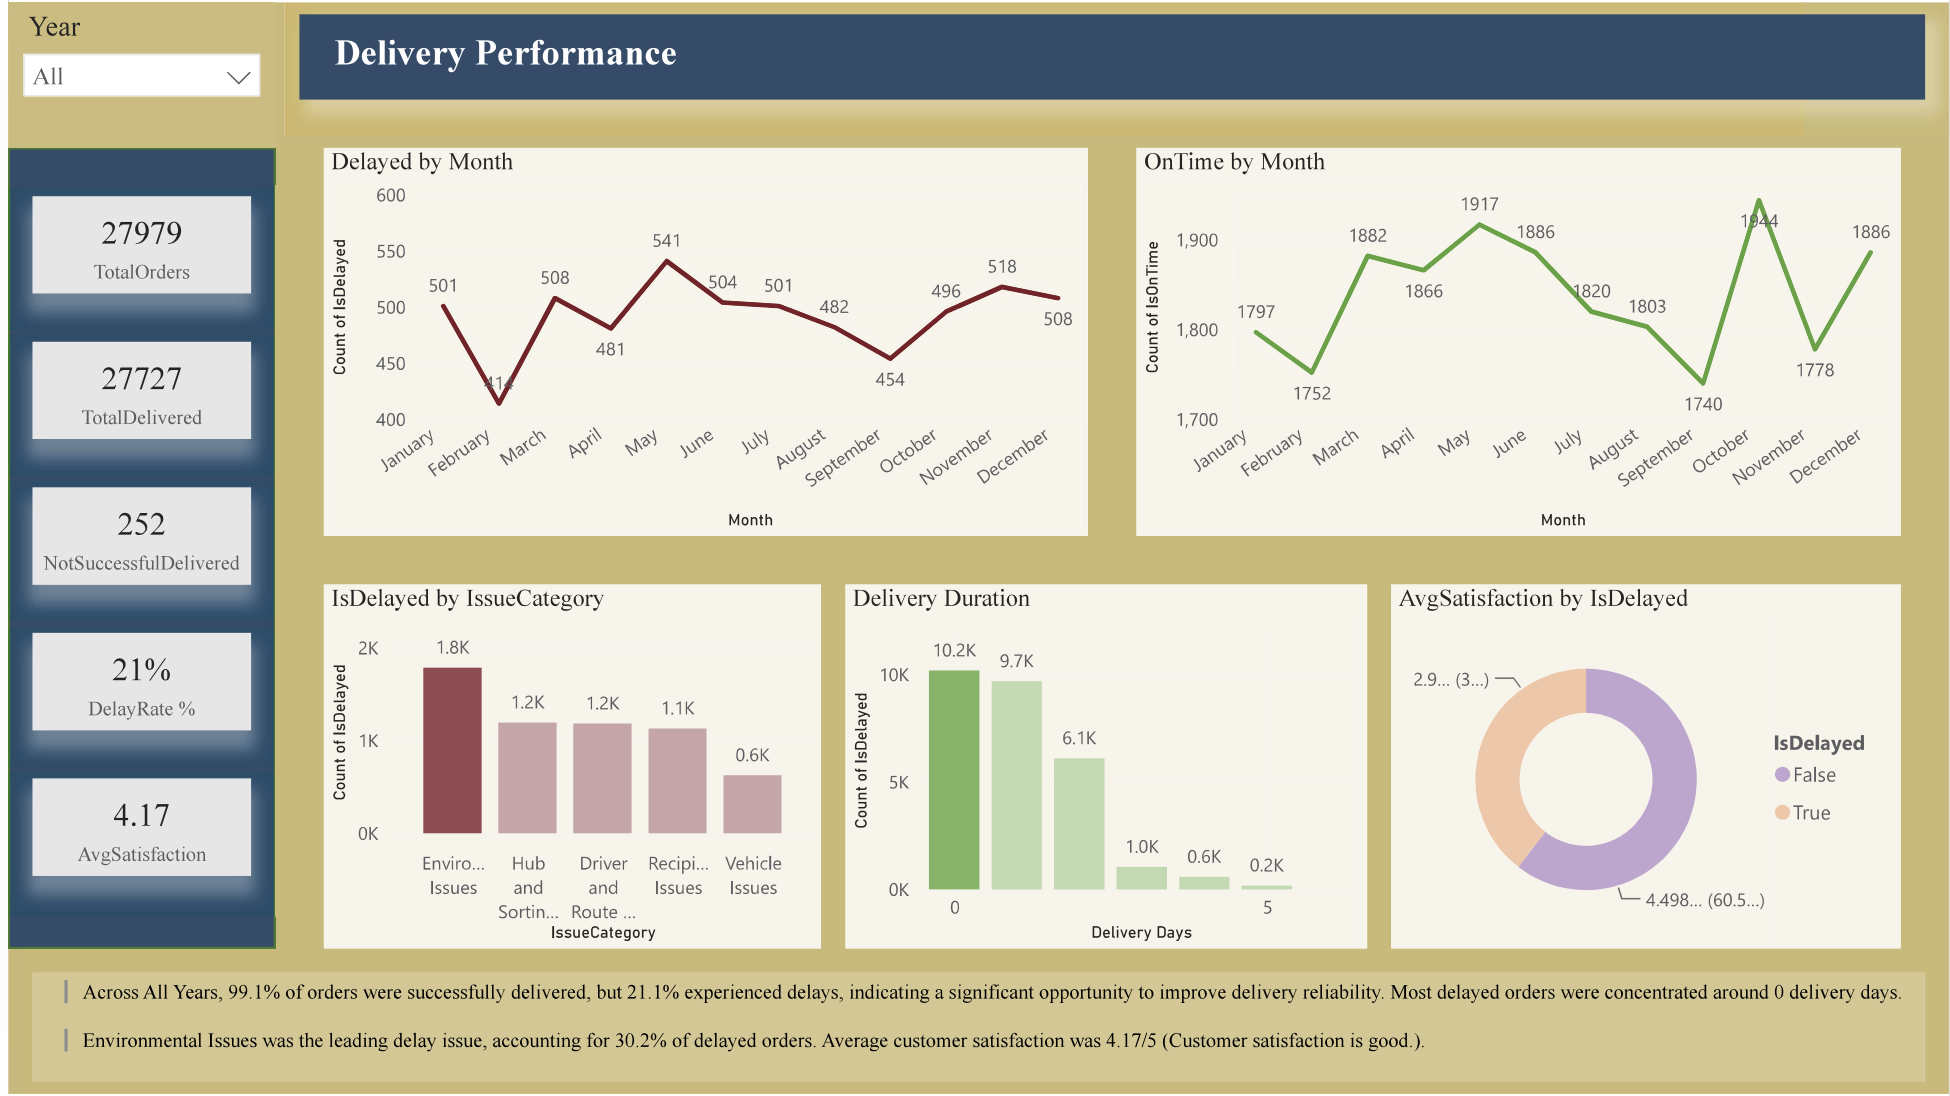

The dashboard page shown, as its layout file describes it:
{"tool":"powerbi","page":{"name":"Delivery Performance","canvas":[1280,720],"ordinal":0},"visuals":[{"type":"shape","box":[16,640,1248,72],"z":0},{"type":"shape","box":[0,96,176,528],"z":1000},{"type":"card","fields":{"Values":["FACT-Orders.TotalOrders"]},"box":[16,128,144,64],"z":2000},{"type":"slicer","fields":{"Values":["FACT-Orders.OrderDate.Variation.Date Hierarchy.Year"]},"box":[0,0,176,96],"z":3000},{"type":"card","fields":{"Values":["FACT-Orders.ActualDelivered"]},"box":[16,224,144,64],"z":4000},{"type":"card","fields":{"Values":["FACT-Orders.NotSuccessfulDelivered"]},"box":[16,320,144,64],"z":5000},{"type":"card","fields":{"Values":["FACT-Orders.DelayRate %"]},"box":[16,416,144,64],"z":6000},{"type":"card","fields":{"Values":["FACT-Orders.AvgSatisfaction"]},"box":[16,512,144,64],"z":7000},{"type":"lineChart","title":"Delayed by Month","fields":{"Category":["FACT-Orders.OrderDate.Variation.Date Hierarchy.Month"],"Y":["CountNonNull(FACT-Orders.IsDelayed)"]},"box":[208,96,504,256],"z":8000},{"type":"lineChart","title":"OnTime by Month","fields":{"Category":["FACT-Orders.OrderDate.Variation.Date Hierarchy.Month"],"Y":["CountNonNull(FACT-Orders.IsOnTime)"]},"box":[744,96,504,256],"z":9000},{"type":"columnChart","title":"Delivery Duration","fields":{"Category":["FACT-Orders.Delivery Days"],"Y":["CountNonNull(FACT-Orders.IsDelayed)"]},"box":[552,384,344,240],"z":10000},{"type":"columnChart","title":"IsDelayed by IssueCategory","fields":{"Category":["DIM-Issues.IssueCategory"],"Y":["CountNonNull(FACT-Orders.IsDelayed)"]},"box":[208,384,328,240],"z":11000},{"type":"textbox","box":[192,8,1072,56],"z":12000},{"type":"multiRowCard","fields":{"Values":["FACT-Orders.PerformanceInsight"]},"box":[32,640,1224,32],"z":13000},{"type":"multiRowCard","fields":{"Values":["FACT-Orders.IssueInsight"]},"box":[32,672,1088,32],"z":14000},{"type":"donutChart","fields":{"Category":["FACT-Orders.IsDelayed"],"Y":["FACT-Orders.AvgSatisfaction"]},"box":[912,384,336,240],"z":15000}]}

Visuals, with their boxes in screenshot pixels (x1, y1, x2, y2), scaled from the page's 1280x720 canvas onto the 1950x1096 screenshot:
shape: l=24, t=974, r=1926, b=1084
shape: l=0, t=146, r=268, b=950
card - FACT-Orders.TotalOrders: l=24, t=195, r=244, b=292
slicer - FACT-Orders.OrderDate.Variation.Date Hierarchy.Year: l=0, t=0, r=268, b=146
card - FACT-Orders.ActualDelivered: l=24, t=341, r=244, b=438
card - FACT-Orders.NotSuccessfulDelivered: l=24, t=487, r=244, b=585
card - FACT-Orders.DelayRate %: l=24, t=633, r=244, b=731
card - FACT-Orders.AvgSatisfaction: l=24, t=779, r=244, b=877
"Delayed by Month" lineChart: l=317, t=146, r=1085, b=536
"OnTime by Month" lineChart: l=1133, t=146, r=1901, b=536
"Delivery Duration" columnChart: l=841, t=585, r=1365, b=950
"IsDelayed by IssueCategory" columnChart: l=317, t=585, r=817, b=950
textbox: l=292, t=12, r=1926, b=97
multiRowCard - FACT-Orders.PerformanceInsight: l=49, t=974, r=1913, b=1023
multiRowCard - FACT-Orders.IssueInsight: l=49, t=1023, r=1706, b=1072
donutChart - FACT-Orders.IsDelayed x FACT-Orders.AvgSatisfaction: l=1389, t=585, r=1901, b=950
